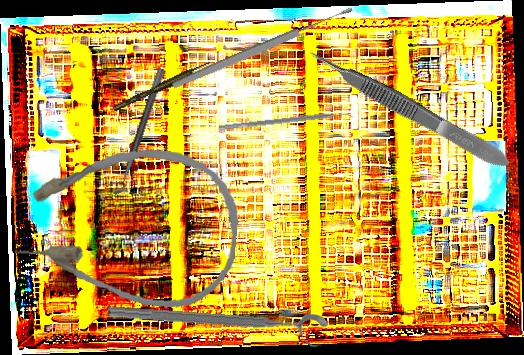Cannula: (11, 138, 244, 313)
Fixation Ring: (106, 299, 329, 351), (104, 64, 166, 197)
Spatula Surgical: (218, 108, 354, 137)
Surgical Spoon: (170, 4, 355, 91)
Tissue Forceps: (305, 41, 514, 175), (110, 60, 215, 112)
